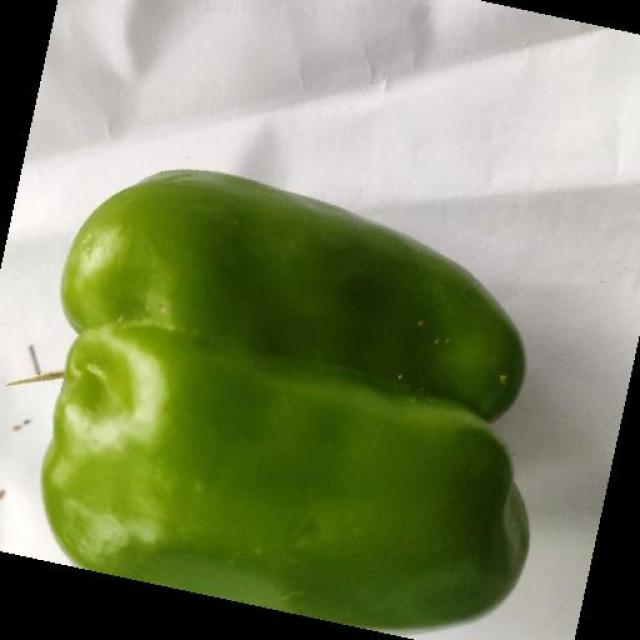Fresh_Capsicum: (52, 150, 499, 640)
